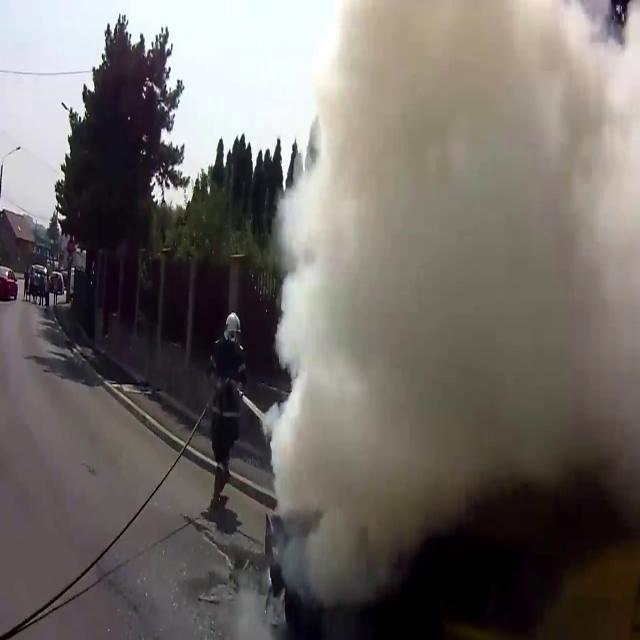Smoke: (244, 0, 640, 590)
